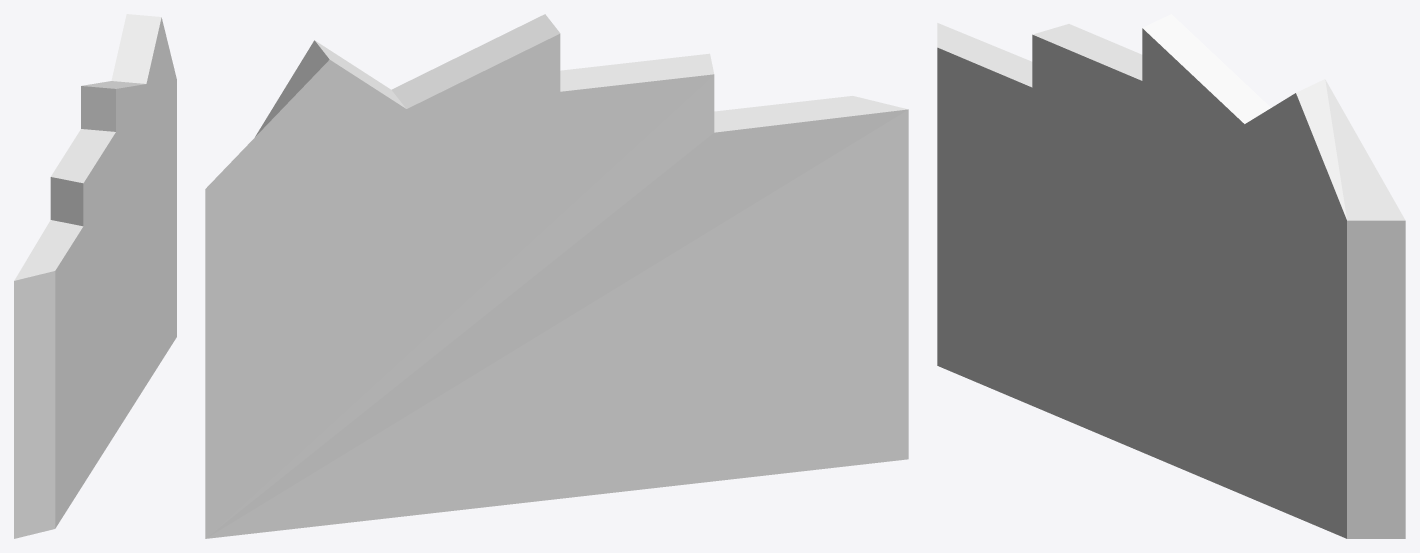
3 renders of one model, left to right at view 1: azimuth 30°, elevation 25°; view 2: azimuth 150°, elevation 25°; view 3: azimuth 270°, elevation 25°, orthographic. The views are drawn at different scales.
Size of the model in its own units: 128 by 128 by 128.
Materials: 1 (1 with a texture image).
